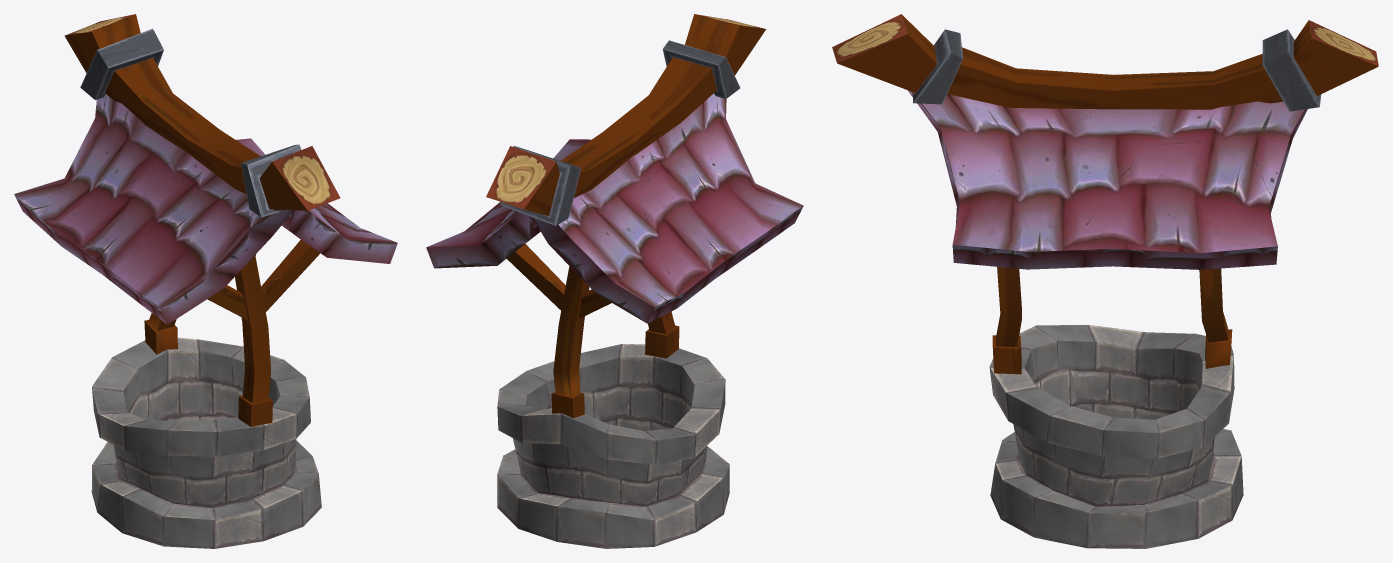
The model's file is SM_PROP_well.glb.
The picture shows the model from 3 angles, left to right: view 1: azimuth 30°, elevation 25°; view 2: azimuth 150°, elevation 25°; view 3: azimuth 270°, elevation 25°; orthographic projection. The views are drawn at different scales.
Visible parts, largest first — view 1: SM_PROP_well_EXPORT; view 2: SM_PROP_well_EXPORT; view 3: SM_PROP_well_EXPORT.
Boxes of the visible parts, bbox=[...] form: SM_PROP_well_EXPORT: bbox=[14, 14, 397, 548]; SM_PROP_well_EXPORT: bbox=[426, 14, 803, 548]; SM_PROP_well_EXPORT: bbox=[832, 14, 1378, 548].
Size of the model in its own units: 2.5 by 4.24 by 4.48.
Materials: 5 (5 with a texture image).
